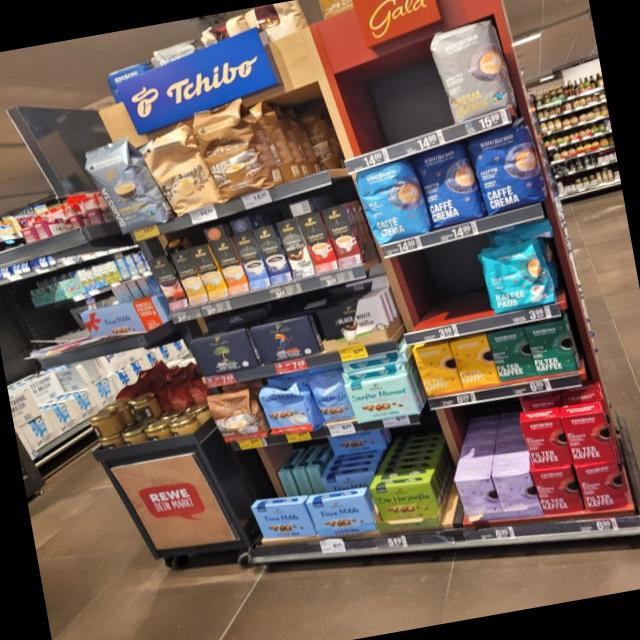BM Gemahlen: (185, 329, 260, 377)
BW Gemahlen: (314, 293, 392, 352)
Barista CC: (72, 131, 176, 237)
CC Mild: (135, 116, 224, 220)
CC Vollmundig: (204, 386, 268, 448)
CC Vollmundig 36 Pads: (183, 91, 286, 206)
FM 36 Pads: (256, 377, 317, 441)
FM Bohne: (306, 368, 358, 425)
FM Gemahlen: (304, 494, 377, 538), (248, 501, 318, 539)
Herzhatfe Mundig: (368, 480, 441, 523)
LG Gemahlen: (248, 313, 323, 366)
SM Gemahlen: (342, 372, 421, 424)
Simo CC Colombia: (147, 253, 190, 311)
Simo CCMild bigpack: (186, 242, 231, 301)
Simo CCVollmundig bigpack: (208, 235, 252, 294)
Simo Es Elegant: (294, 208, 341, 275)
Simo Es Kraft: (320, 202, 366, 269)
Simo Kaffee BW: (274, 215, 317, 281)
Simo Kaffee Kraft: (250, 221, 294, 285)
Simo Kaffee Mild: (230, 229, 273, 291)
